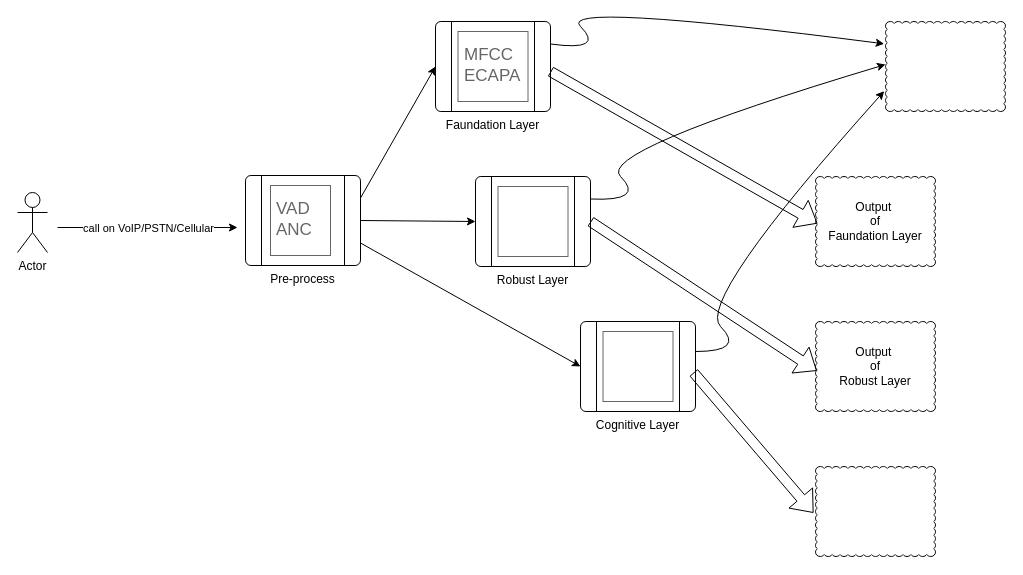
The diagram is 1023 pixels wide and 575 high, and some of its shapes have lost their labels. Here are the shapes that lost their labels. From the top down, the centre of each, then its label:
At point 945,66: "Hybrid process resault".
At point 532,221: "TITAnet x-vector".
At point 637,366: "wavlm MFA-c".
At point 875,511: "Output of Cognitive Layer".
